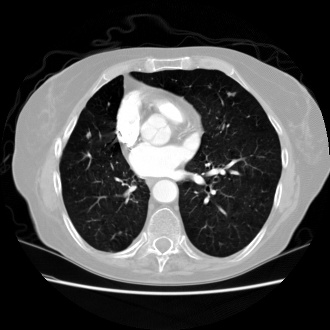PN: (231, 91, 235, 95)
